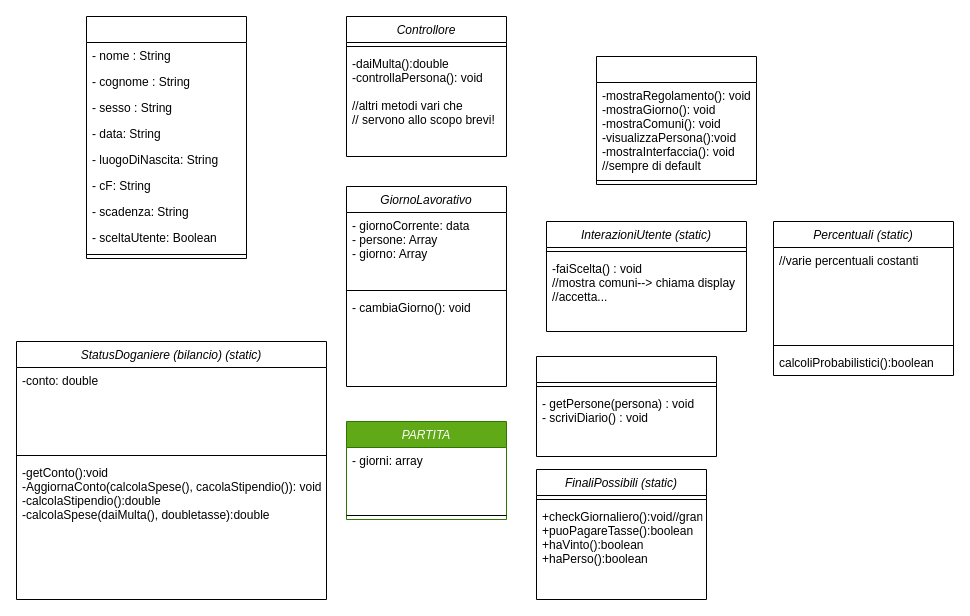
Some shapes in this 970 by 616 pixel diagram are drawn without their labels. Each missing label, with the box of its shape:
Display (static): (596, 56, 756, 184)
GestioneXML: (536, 356, 716, 456)
Persona: (86, 16, 246, 258)
